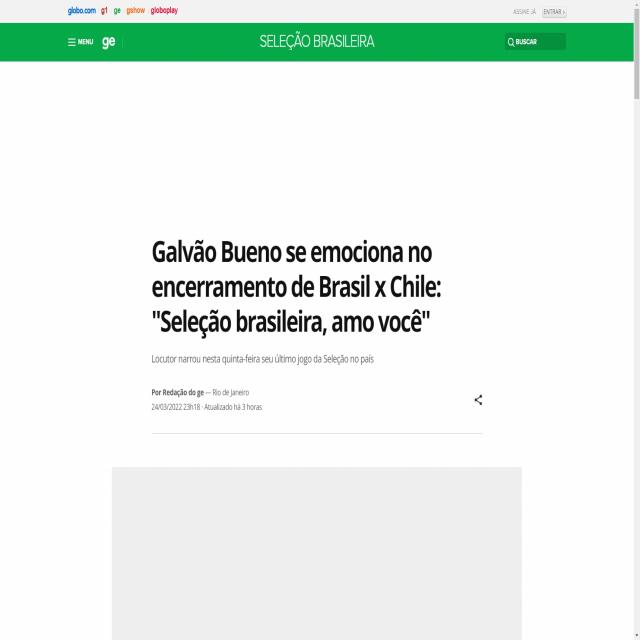menu-bar: (65, 24, 126, 57)
search: (502, 27, 568, 53)
